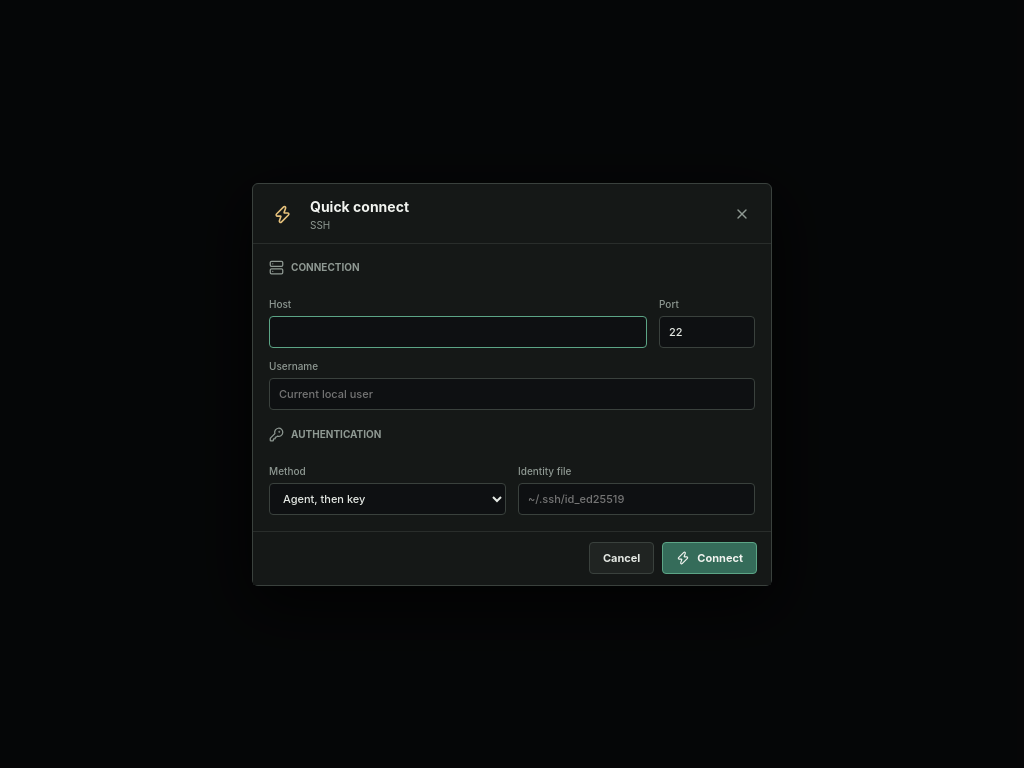
Test: QuickConnectDialog › keeps the dialog active and shows backend validation errors
Type "server.example.com:22" into the field labelled "Host" at point(458, 332), box [269,316,647,348]
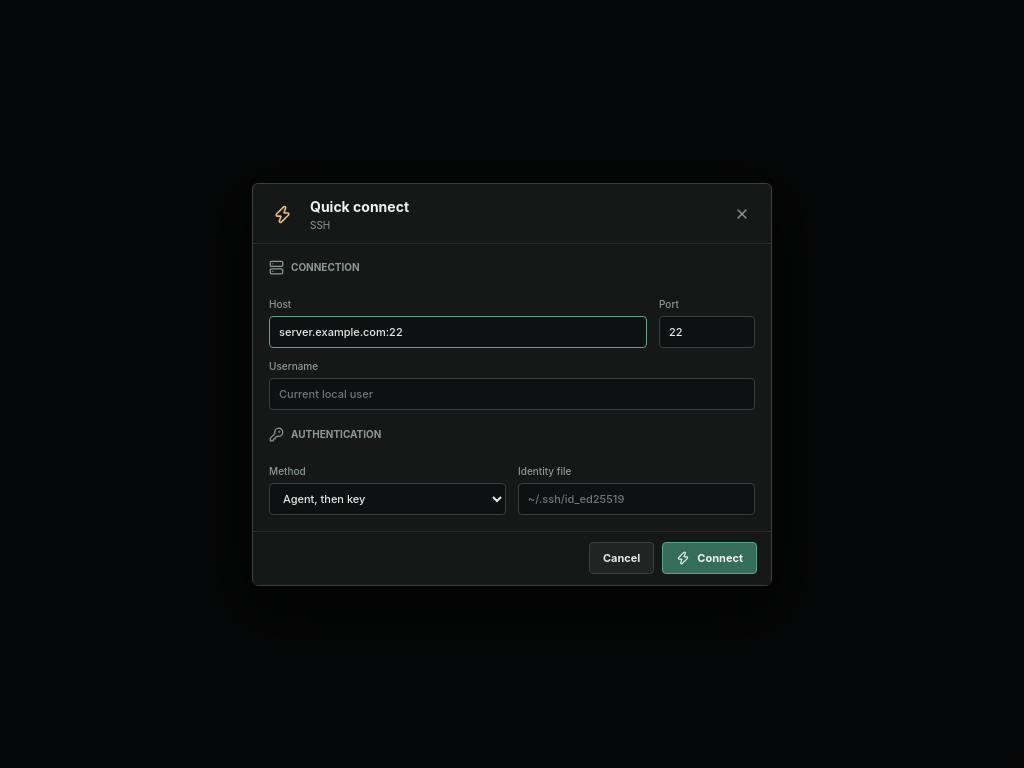
Click the button "Connect" at point(710, 558), box [662,542,757,574]
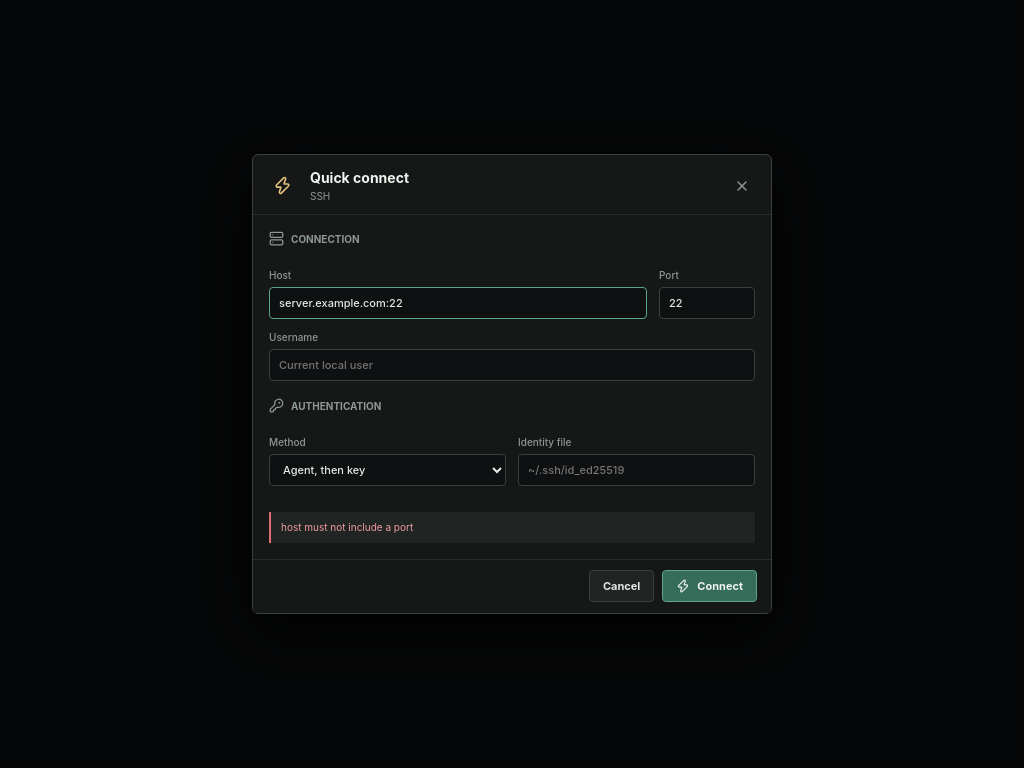
Expected: the button "Connect" is enabled, [662,570,757,602]
Now the message reads "host must not include a port", box [281,521,413,533]
